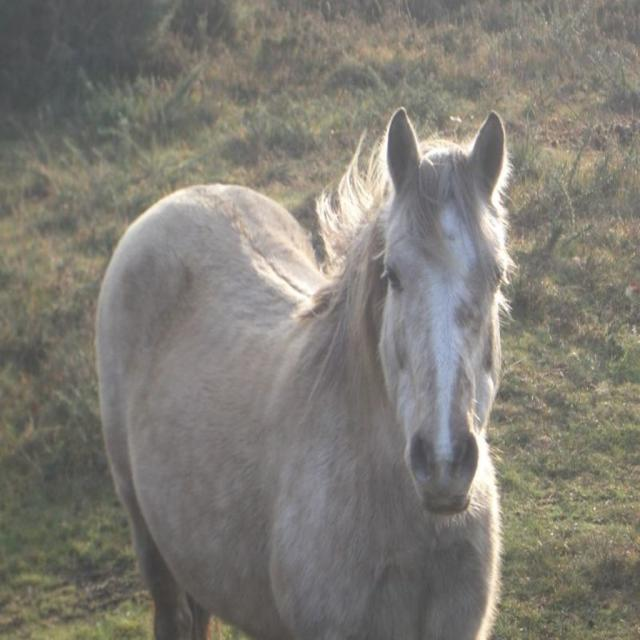Horse: (95, 106, 518, 640)
